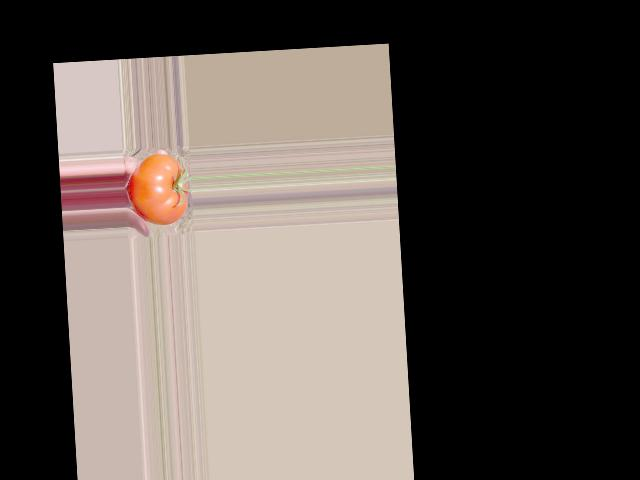tomato: (125, 152, 189, 225)
